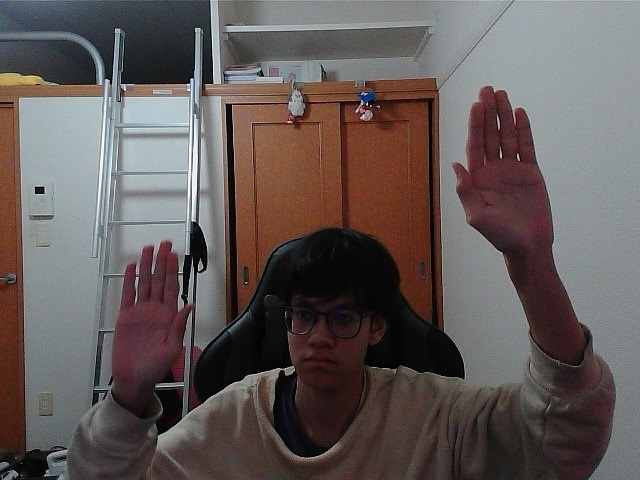open_palm: (125, 246, 187, 376)
